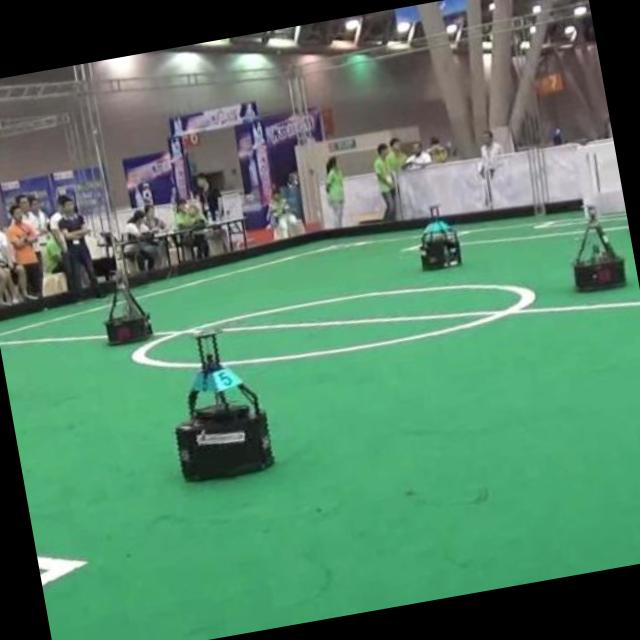robot: (175, 331, 272, 479), (572, 218, 624, 289), (104, 288, 150, 343), (418, 216, 460, 268)
